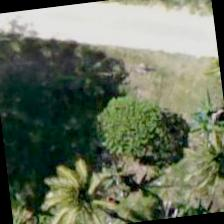Kelapa_Sawit: (31, 145, 131, 223), (171, 115, 223, 212)
